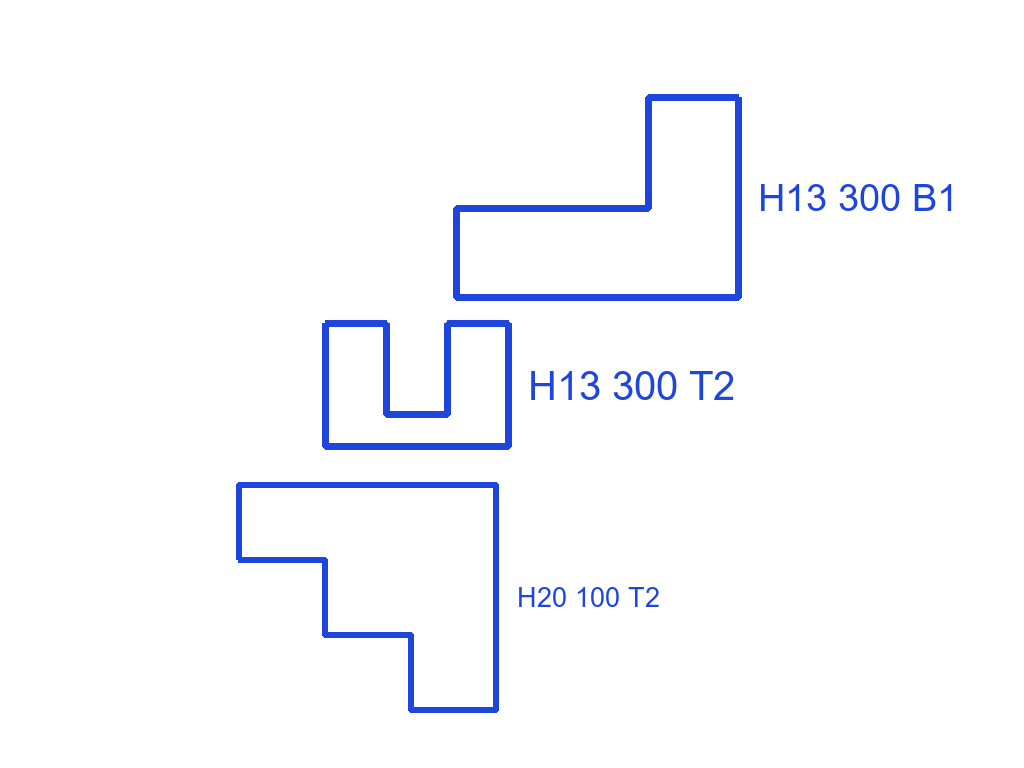shape: (234, 480, 502, 714), (451, 92, 744, 303), (320, 318, 514, 452)
text: (526, 369, 737, 402), (756, 182, 960, 213), (515, 585, 662, 609)
